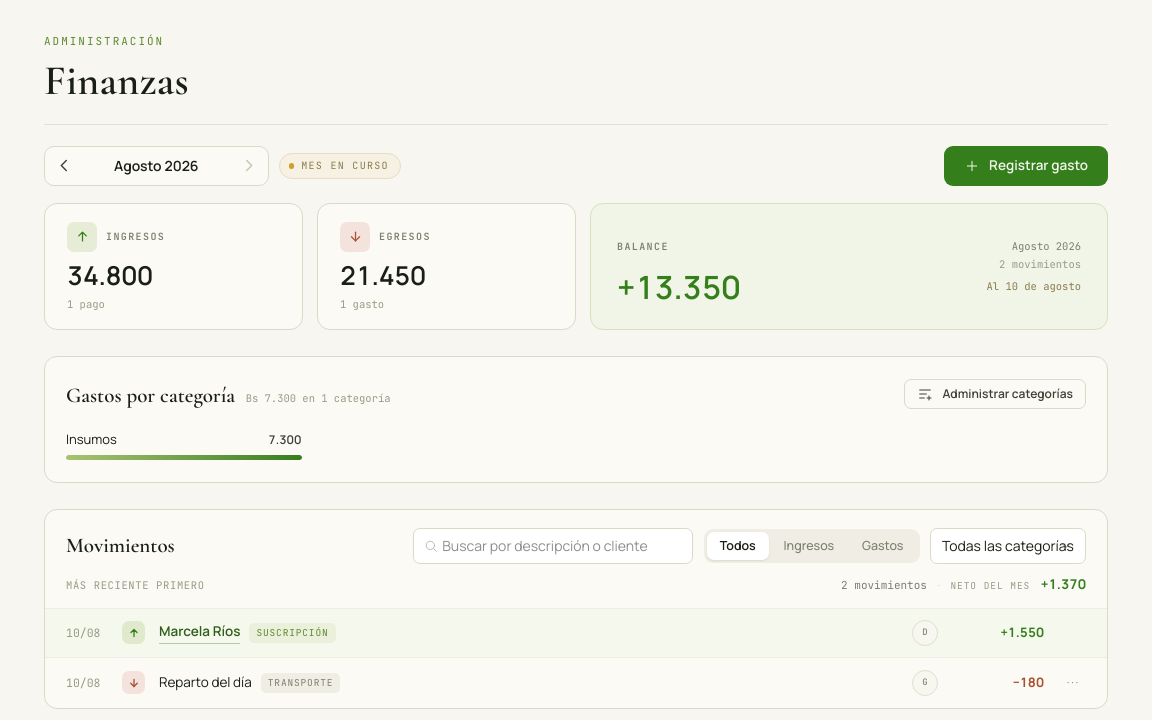
Test: FinancePage › offers the expense form the catalog in the order the server ranked it
Click the button "Registrar gasto": (1026, 166) [944, 146, 1108, 186]
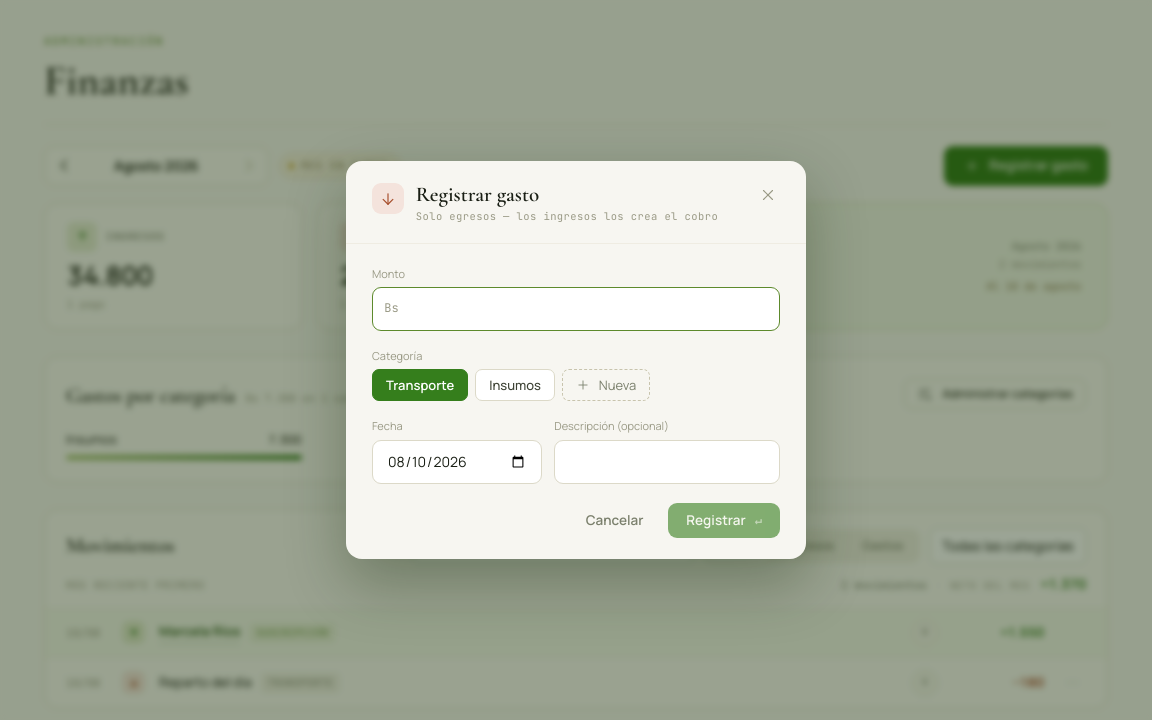
Check: the buttons read "Transporte", "Insumos", "Nueva", in this order, box [372, 369, 468, 401]; [475, 369, 555, 401]; [562, 369, 650, 401]
